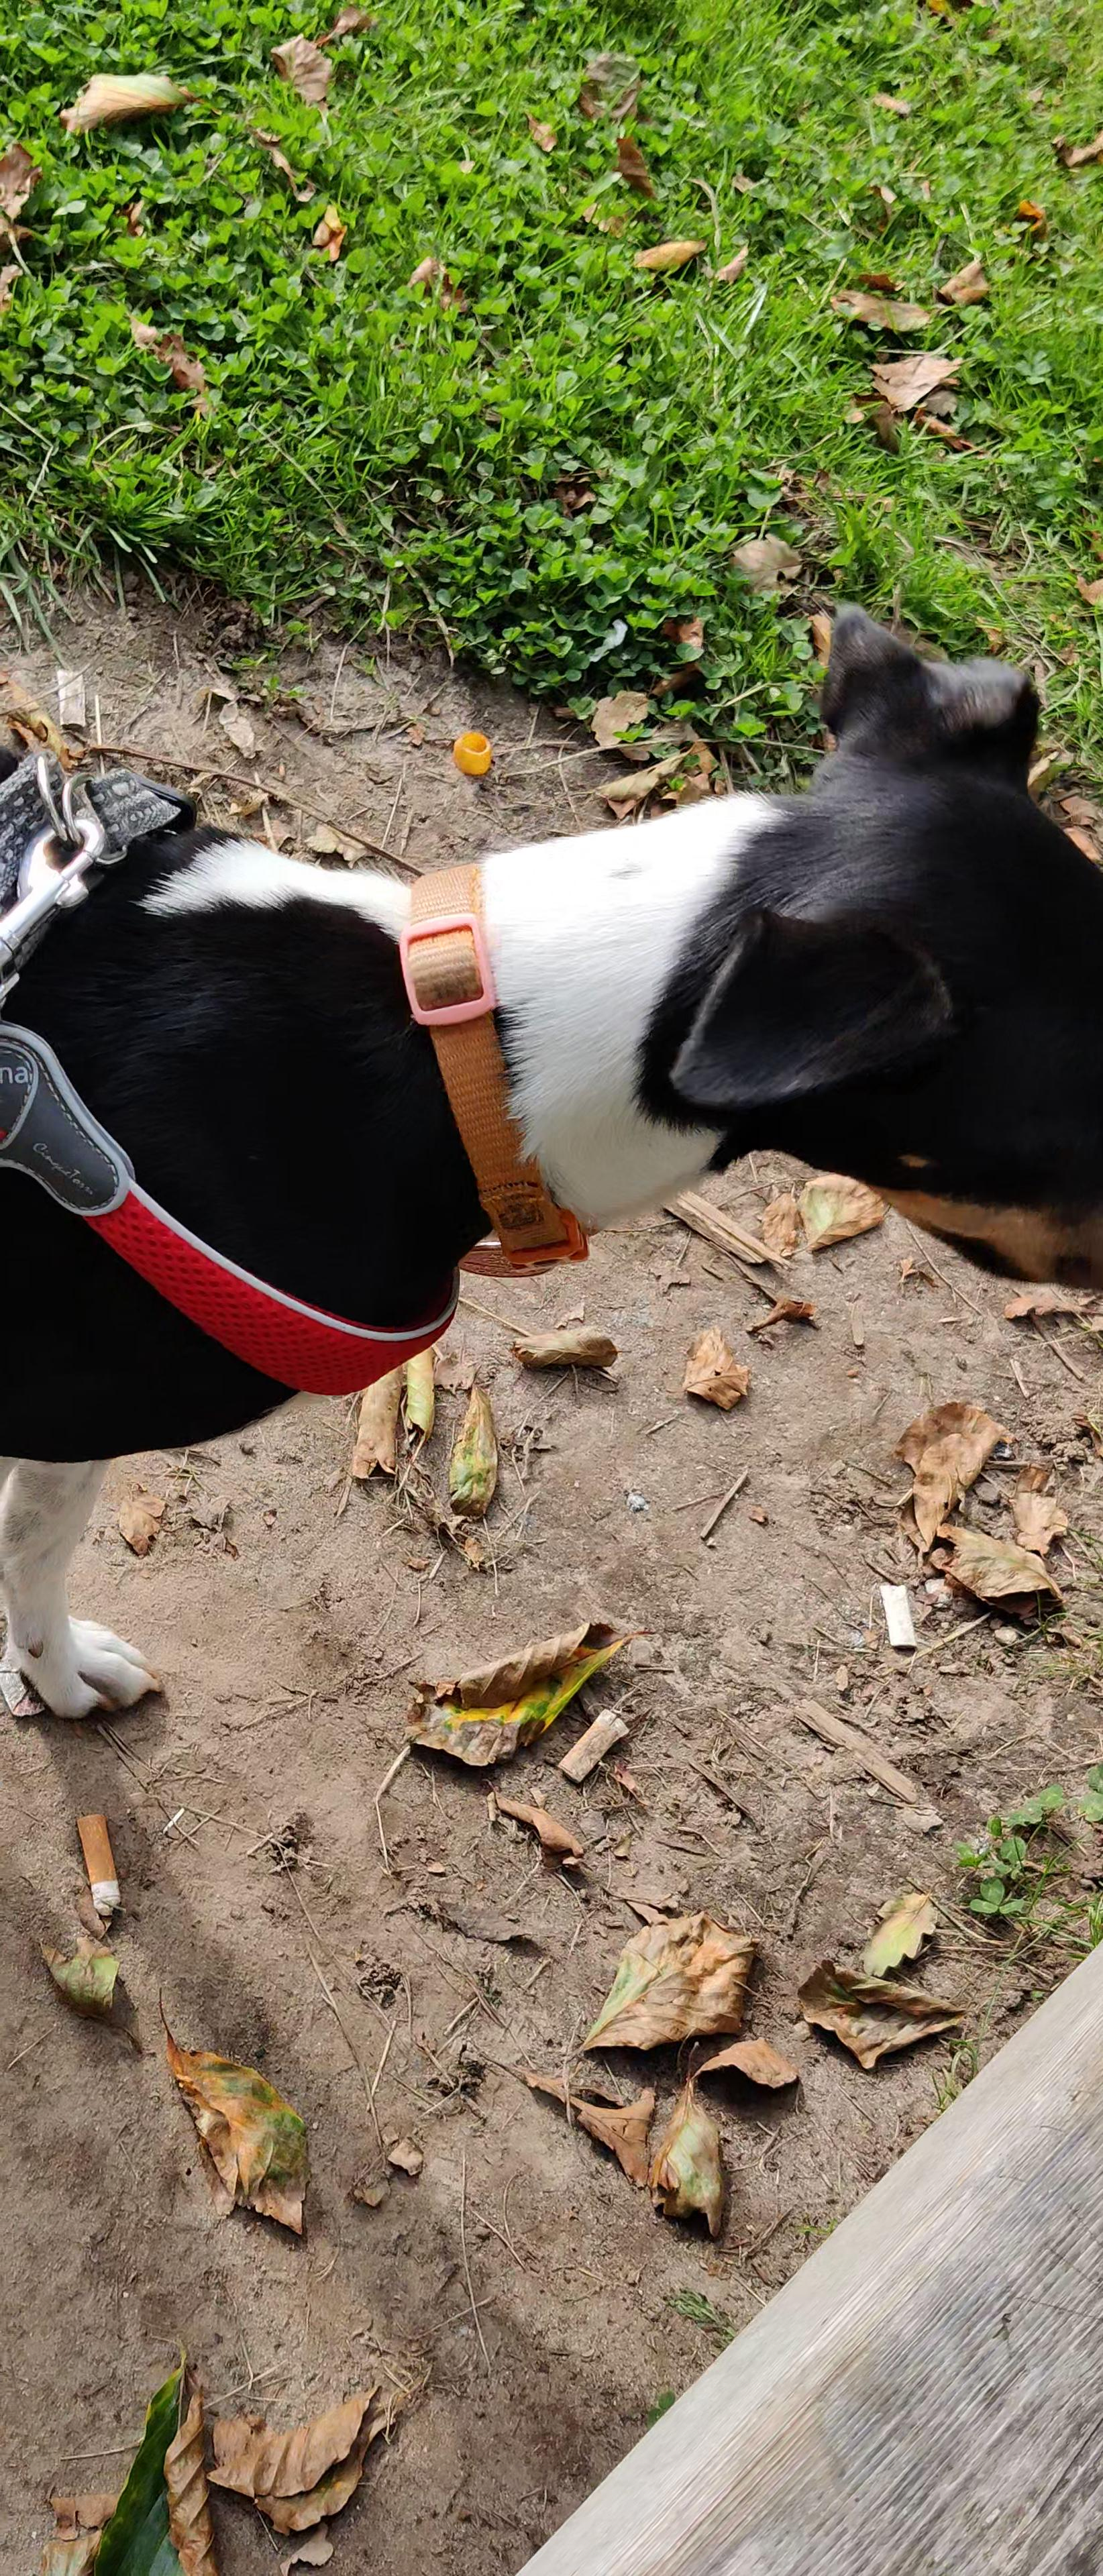Dog: (0, 573, 1103, 1741)
